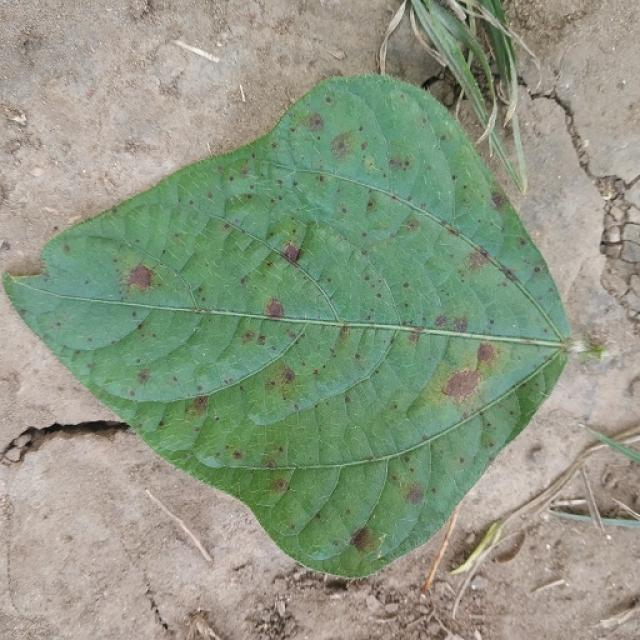Anthracnose: (121, 256, 158, 297), (443, 367, 482, 400), (330, 130, 358, 159), (350, 526, 374, 552), (466, 249, 490, 270), (187, 394, 209, 416), (282, 242, 302, 265), (475, 342, 495, 364), (264, 298, 285, 318), (388, 155, 409, 171), (407, 487, 424, 505), (307, 113, 325, 130), (407, 326, 423, 344), (336, 324, 351, 342), (452, 317, 468, 332), (240, 329, 256, 343), (490, 192, 504, 208), (136, 369, 150, 384), (282, 368, 295, 384), (433, 314, 447, 328), (273, 478, 287, 491), (232, 450, 243, 460), (366, 199, 376, 210), (402, 281, 410, 288), (317, 175, 324, 182), (325, 96, 332, 103), (312, 369, 318, 375)
Blackgram: (2, 78, 568, 576)
